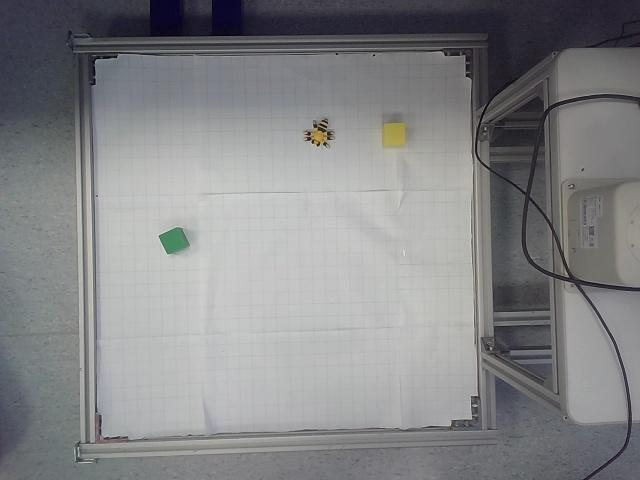frelon: (304, 119, 335, 149)
